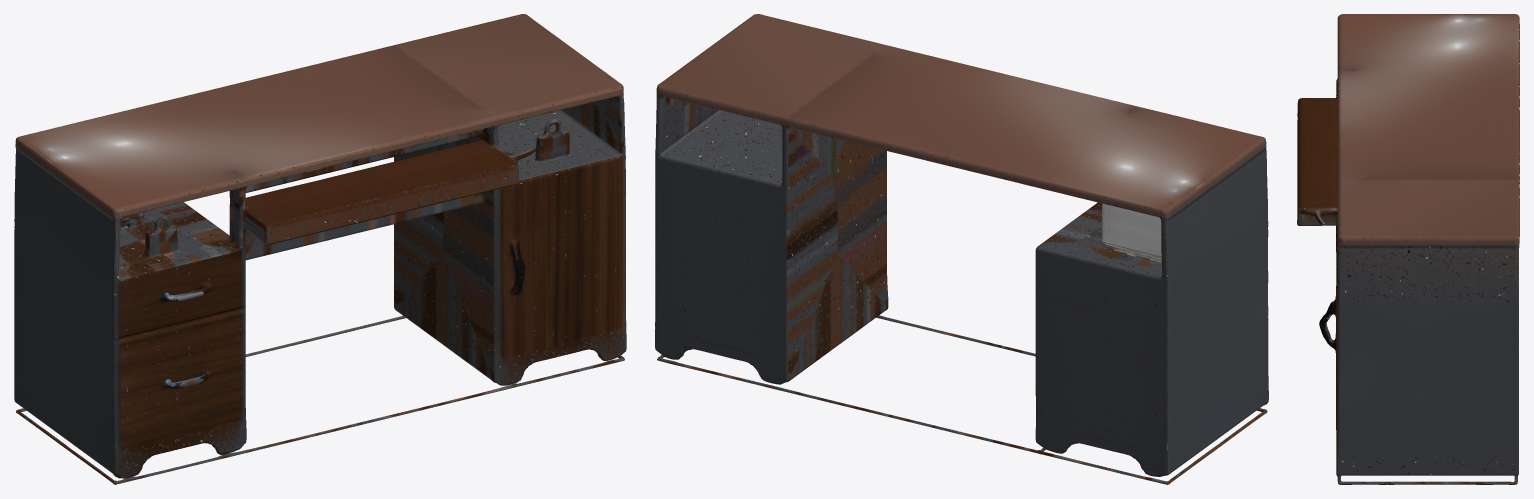
The model's file is bestier-executive-computer-industrial-pedestals.glb.
The picture shows the model from 3 angles, left to right: view 1: azimuth 30°, elevation 25°; view 2: azimuth 150°, elevation 25°; view 3: azimuth 270°, elevation 25°; orthographic projection. The views are drawn at different scales.
Parts seen in each view (by area): view 1: world; view 2: world; view 3: world.
Part boxes in pixels (left/top/right/bottom): world: left=14, top=14, right=626, bottom=484; world: left=655, top=14, right=1268, bottom=484; world: left=1297, top=14, right=1519, bottom=484.
Bounding box in the file's own units: 1.99 × 1.02 × 0.8316.
1 material, 1 textured.
